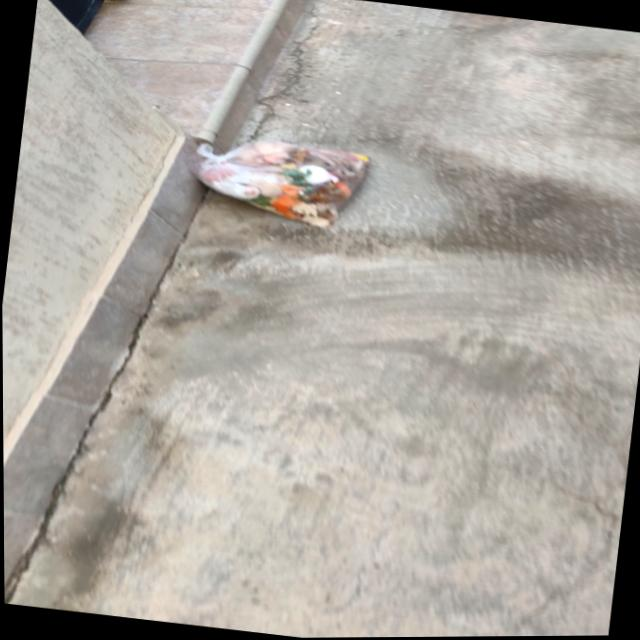Organic Waste -White Bags-: (192, 139, 375, 231)
